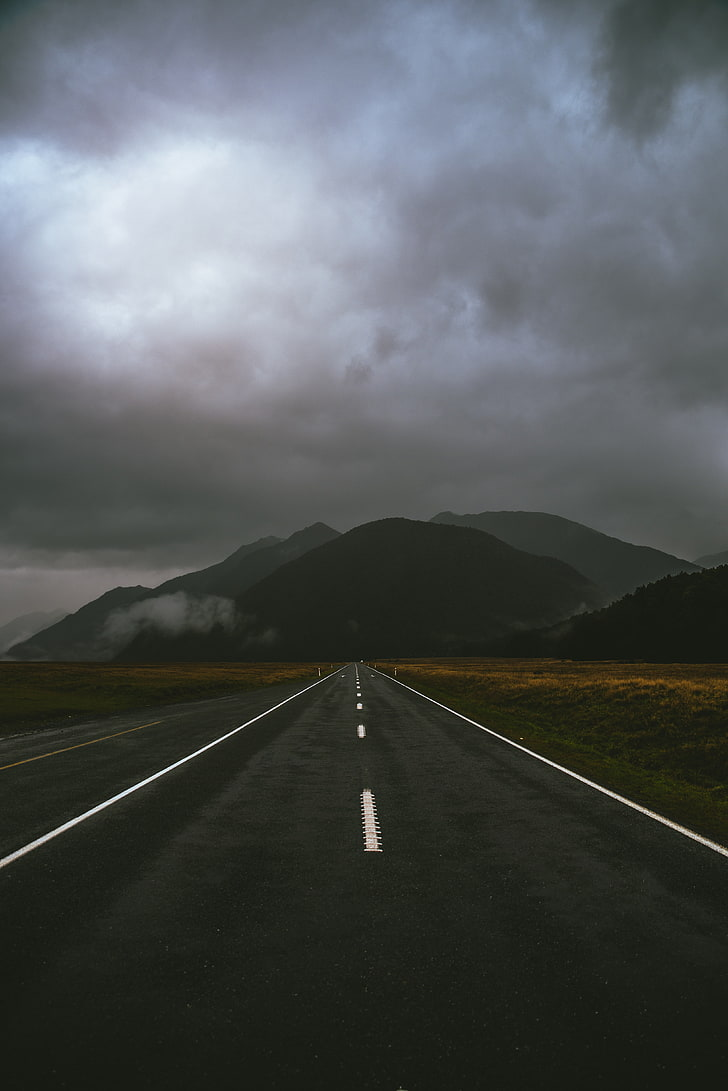straightRoad: (155, 640, 619, 1084)
